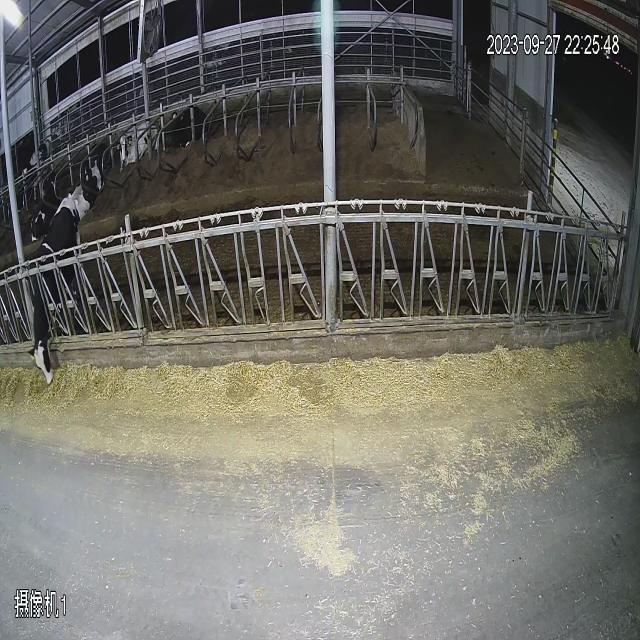feeding: (13, 190, 96, 414)
lying down: (116, 96, 216, 184), (61, 154, 103, 227), (82, 118, 115, 196), (23, 168, 61, 235)
